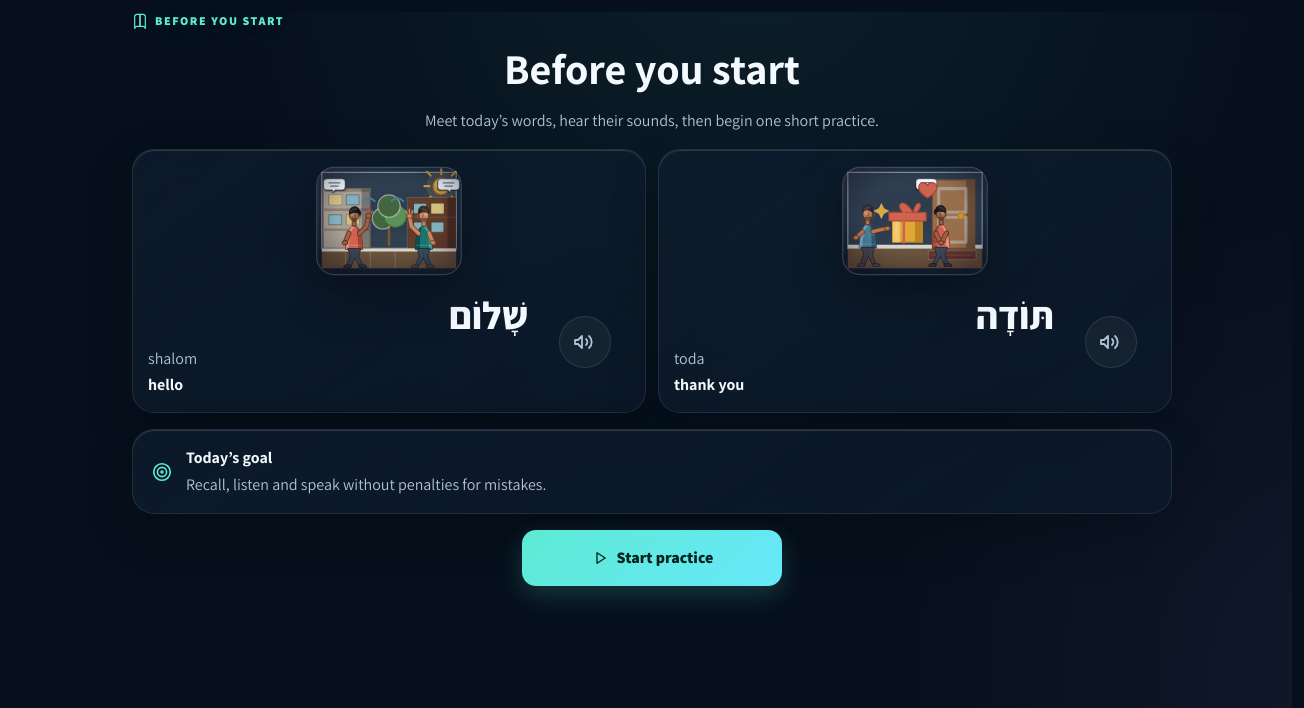
Test case: DailyPracticeSession › shows the words and goal before the first step, then begins without writing progress
This screenshot has width=1304, height=708.
Check: the heading "Before you start" is shown, box [504, 41, 800, 96]
Check: the text "shalom" is shown, box [148, 348, 197, 369]
Click the button "Start practice" at (652, 558), box [522, 530, 782, 586]
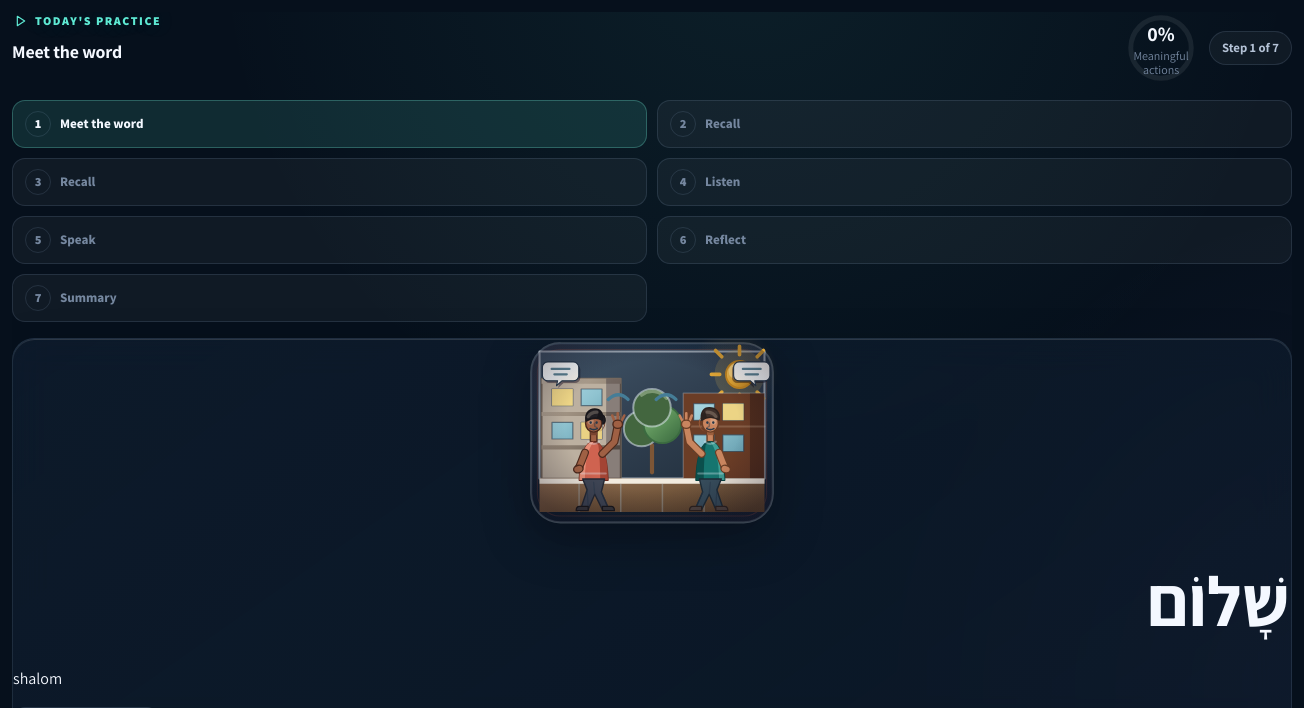
Check: the heading "Meet the word" is shown, box [12, 40, 122, 63]
Check: the text "Step 1 of 7" is shown, box [1209, 31, 1292, 65]
